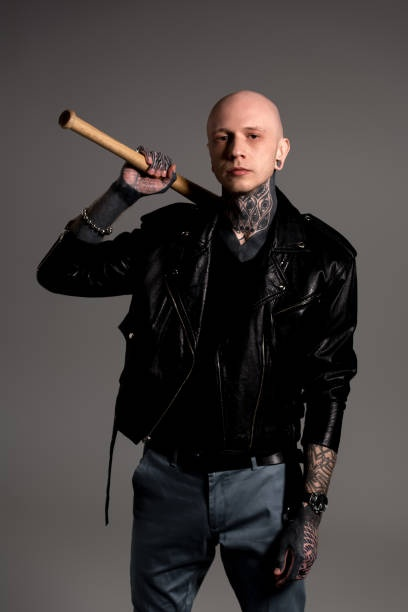bita: (52, 107, 222, 211)
